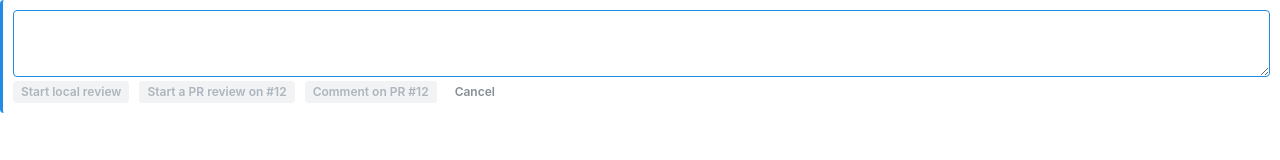
Test: NewCommentCard › with a PR › disables the GitHub buttons when the watcher is off
Type "x" into the text box at point(642, 43), box x1=13 y1=10 x2=1270 y2=77
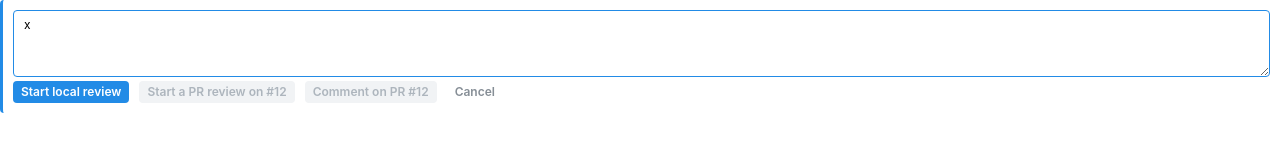
Hover over the button "Comment on PR #12" at point(371, 92), box x1=305 y1=81 x2=437 y2=103
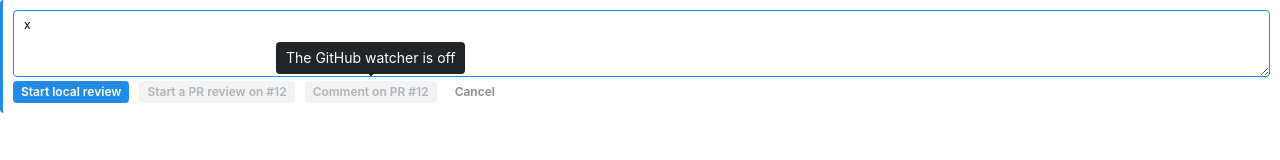
expect the tooltip "The GitHub watcher is off" is shown: met, box x1=276 y1=42 x2=465 y2=74
